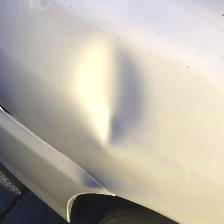door_dent: (55, 37, 160, 159)
